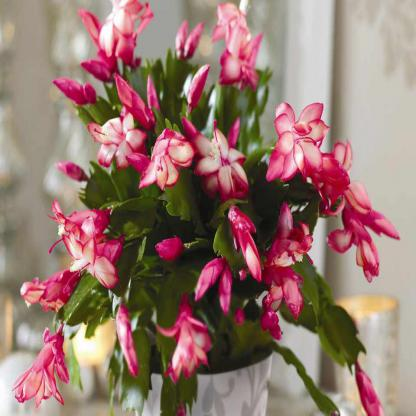Aglonema: (80, 115, 343, 392)
